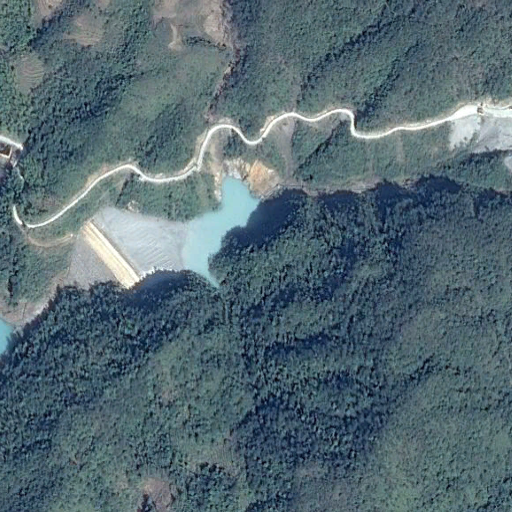tp: (65, 176, 284, 294)
